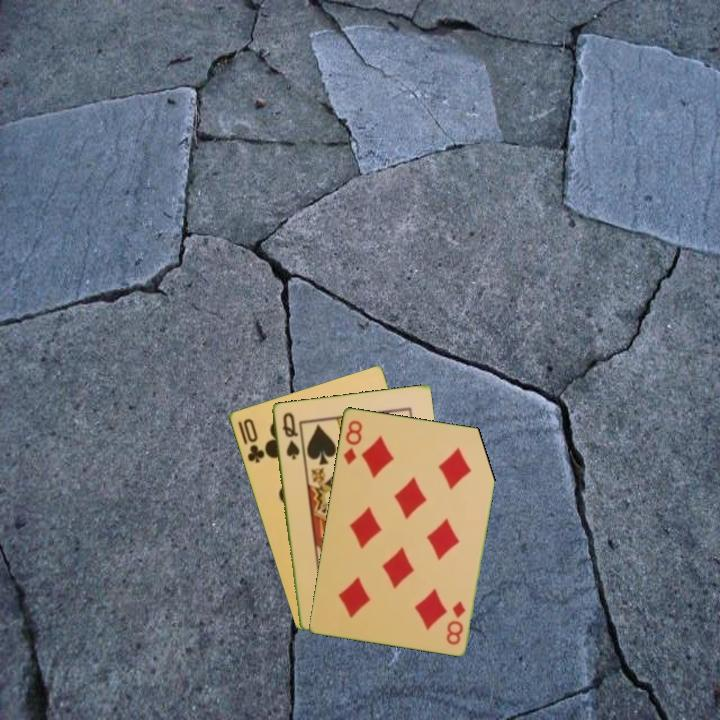10c: (234, 414, 267, 466)
8d: (340, 416, 365, 467), (443, 597, 468, 647)
Qs: (278, 408, 302, 462)
